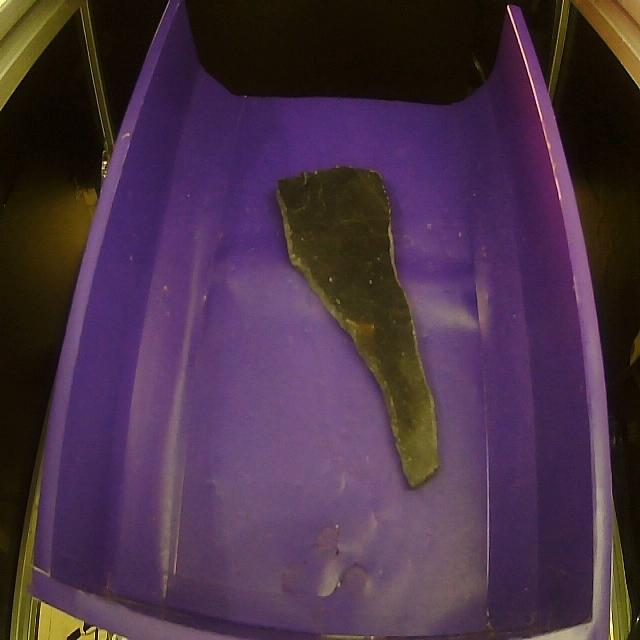china: (266, 159, 443, 491)
